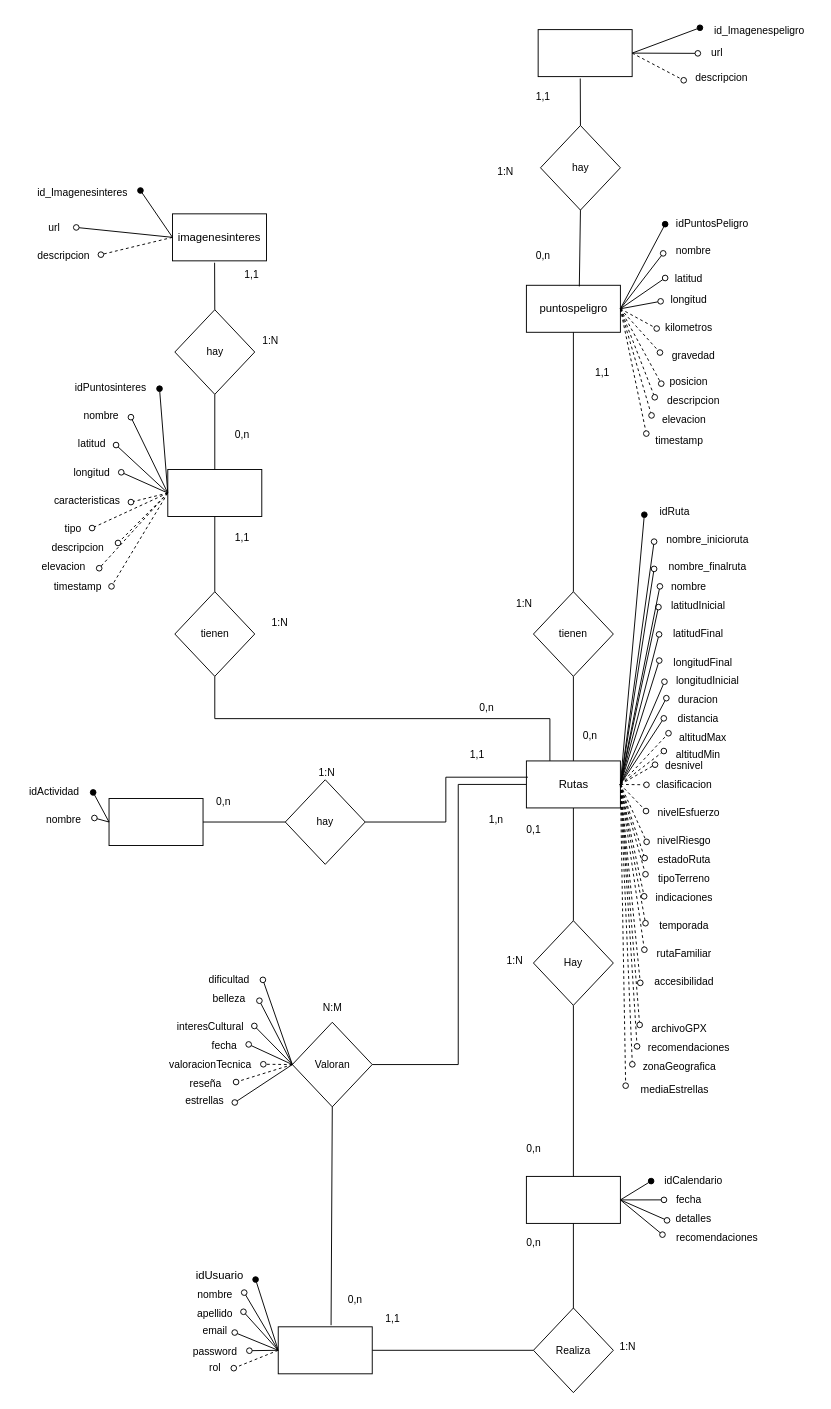
Some shapes in this 831 by 1409 pixel diagram are drawn without their labels. The shapes that lost their labels are listed below. From the top down, each one's box as (x1, y1, x2, y2) in pixels, then its label:
(537, 29, 632, 77): imagenespeligro
(167, 469, 262, 517): puntosinteres
(108, 798, 203, 846): Actividad
(525, 1175, 620, 1223): Calendario
(277, 1326, 372, 1374): Usuarios
